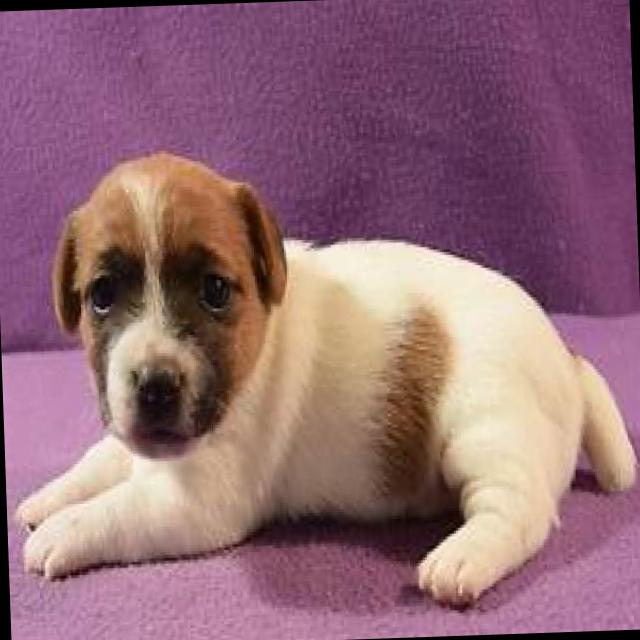dog: (0, 131, 640, 622)
